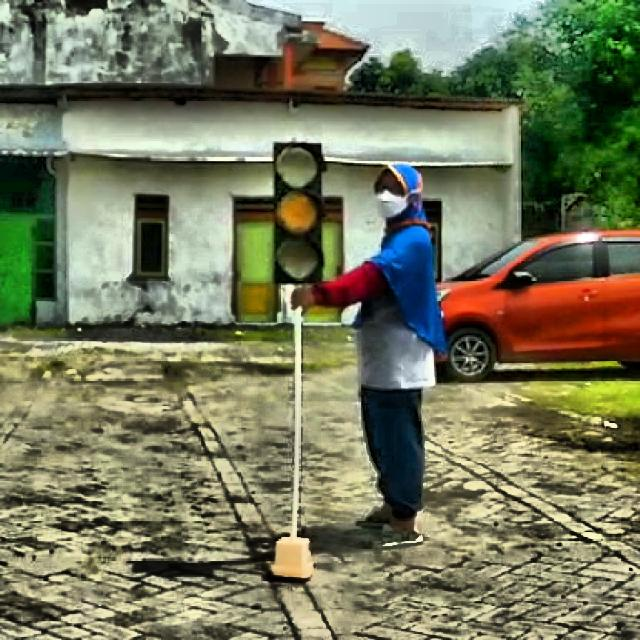yellow: (272, 142, 322, 284)
